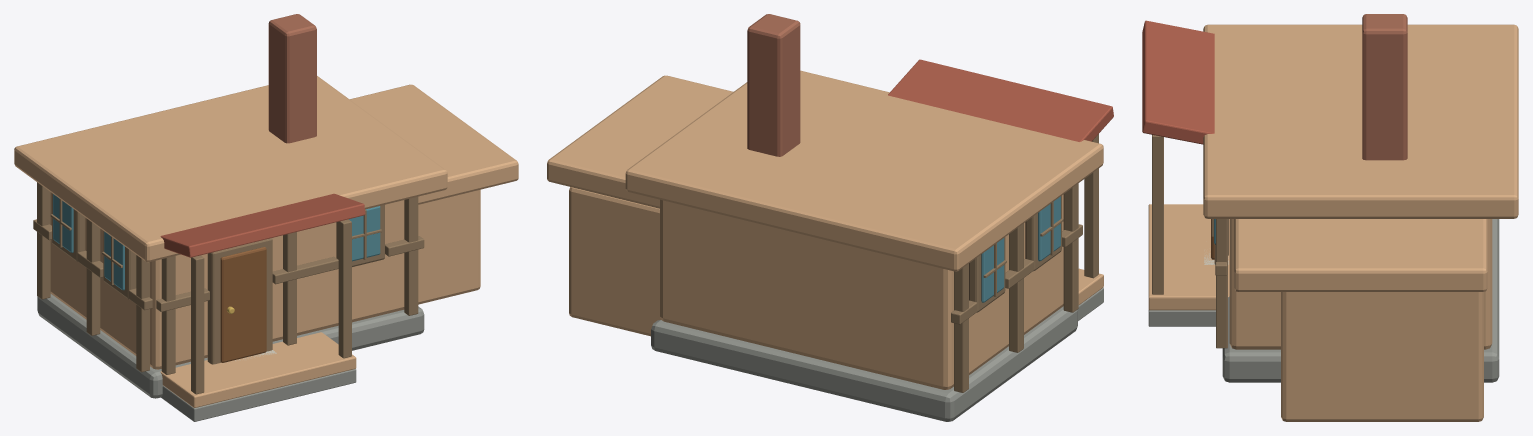
File: arid-cottage-2.glb
3 renders of one model, left to right at view 1: azimuth 30°, elevation 25°; view 2: azimuth 150°, elevation 25°; view 3: azimuth 270°, elevation 25°, orthographic. The views are drawn at different scales.
Parts seen in each view (by area): view 1: Adobe cream, Palm beams, Adobe plaster, Adobe wood, Foundation stone, Chimney brick, Clay tiles, Door oak, Blue glass; view 2: Adobe cream, Adobe plaster, Foundation stone, Adobe wood, Palm beams, Clay tiles, Chimney brick, Blue glass; view 3: Adobe cream, Adobe wood, Clay tiles, Chimney brick, Foundation stone, Adobe plaster, Palm beams.
Part boxes in pixels (<box>): Adobe cream: <box>14,76,518,262</box>; Palm beams: <box>33,182,424,394</box>; Adobe plaster: <box>50,192,404,369</box>; Adobe wood: <box>160,189,480,407</box>; Foundation stone: <box>37,294,424,421</box>; Chimney brick: <box>268,14,316,143</box>; Clay tiles: <box>160,193,365,257</box>; Door oak: <box>220,247,266,362</box>; Blue glass: <box>53,194,380,290</box>; Adobe cream: <box>547,70,1103,271</box>; Adobe plaster: <box>660,194,1063,389</box>; Foundation stone: <box>651,287,1103,421</box>; Adobe wood: <box>569,187,1103,336</box>; Palm beams: <box>951,134,1098,392</box>; Clay tiles: <box>888,59,1113,141</box>; Chimney brick: <box>747,14,800,156</box>; Blue glass: <box>981,196,1060,302</box>; Adobe cream: <box>1203,24,1518,291</box>; Adobe wood: <box>1148,204,1483,421</box>; Clay tiles: <box>1142,20,1214,144</box>; Chimney brick: <box>1362,14,1407,160</box>; Foundation stone: <box>1148,219,1499,382</box>; Adobe plaster: <box>1229,219,1492,349</box>; Palm beams: <box>1152,135,1228,348</box>.
Size of the model in its own units: 4.4 by 3.02 by 3.15.
